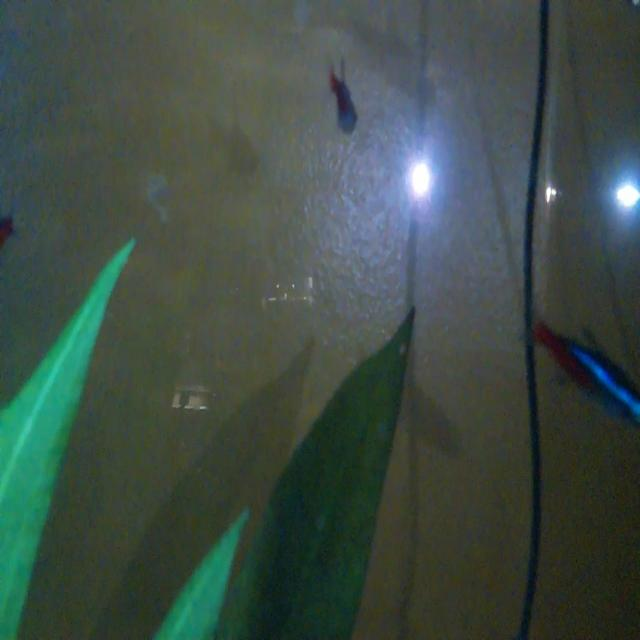fish: (525, 291, 640, 435), (317, 52, 373, 158)
